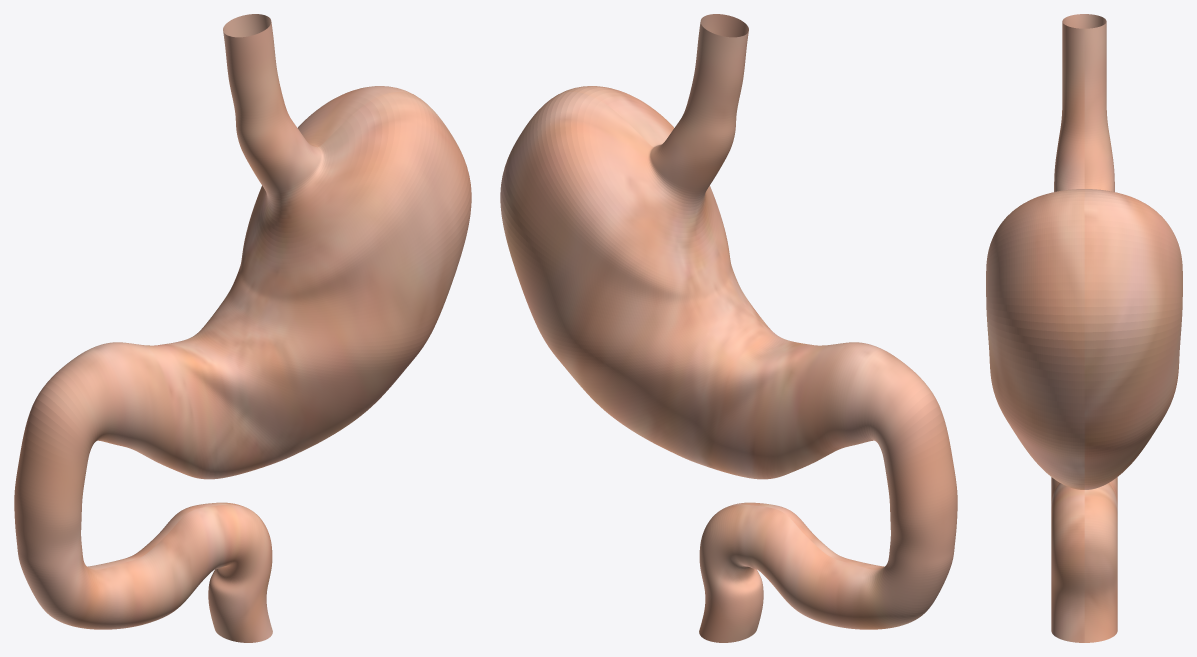
3 renders of one model, left to right at view 1: azimuth 30°, elevation 25°; view 2: azimuth 150°, elevation 25°; view 3: azimuth 270°, elevation 25°, orthographic.
Visible parts, largest first — view 1: Cylinder_3; view 2: Cylinder_3; view 3: Cylinder_3.
Boxes of the visible parts, x1,y1,x2,y2 form: Cylinder_3: (14,14,471,642); Cylinder_3: (500,14,957,642); Cylinder_3: (986,14,1182,642).
Bounding box in the file's own units: 8.02 × 10.54 × 3.06.
Materials: 1 (1 with a texture image).
